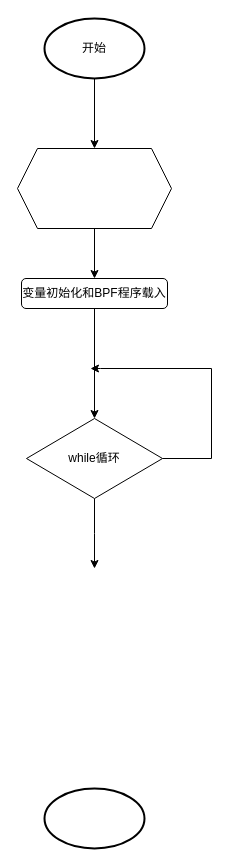
Some shapes in this 237 by 866 pixel diagram are drawn without their labels. Each missing label, with the centre of its shape:
env配置信息初始化 设置libbpf_printf_fn打印信息 设置sig_handle信号处理函数 args parse命令行处理设置: point (94, 188)
结束: point (94, 818)
